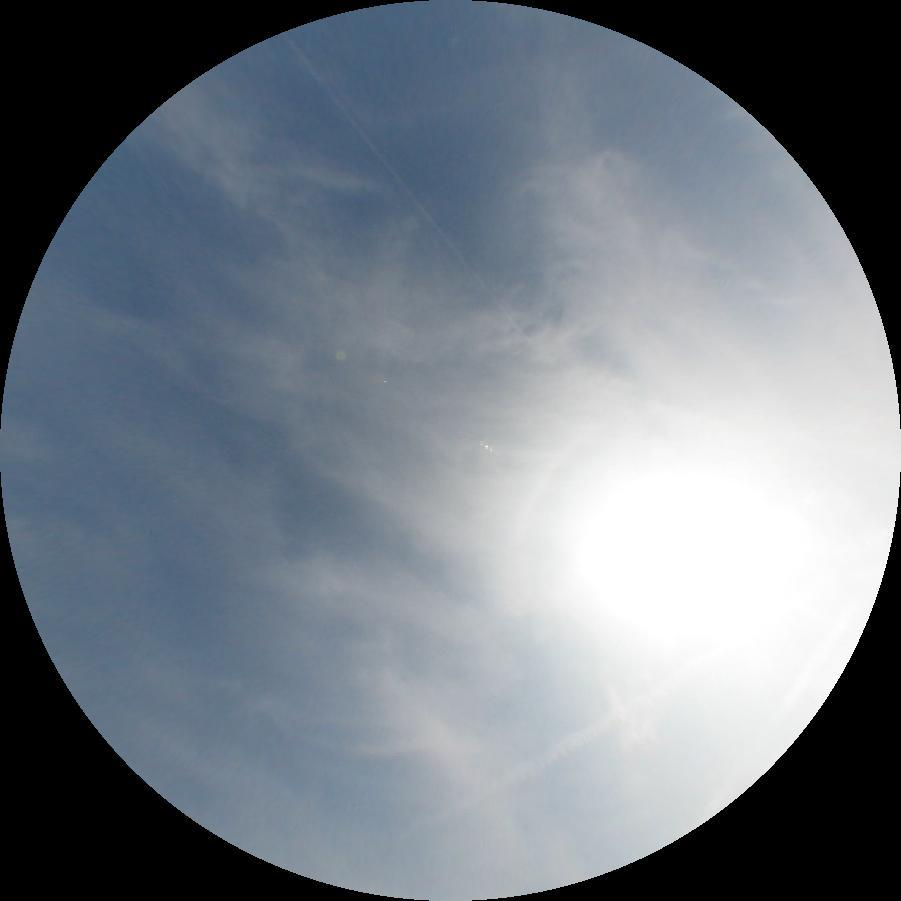contrail old: (416, 689, 660, 834)
contrail young: (282, 32, 535, 349)
sun: (562, 446, 819, 667)
